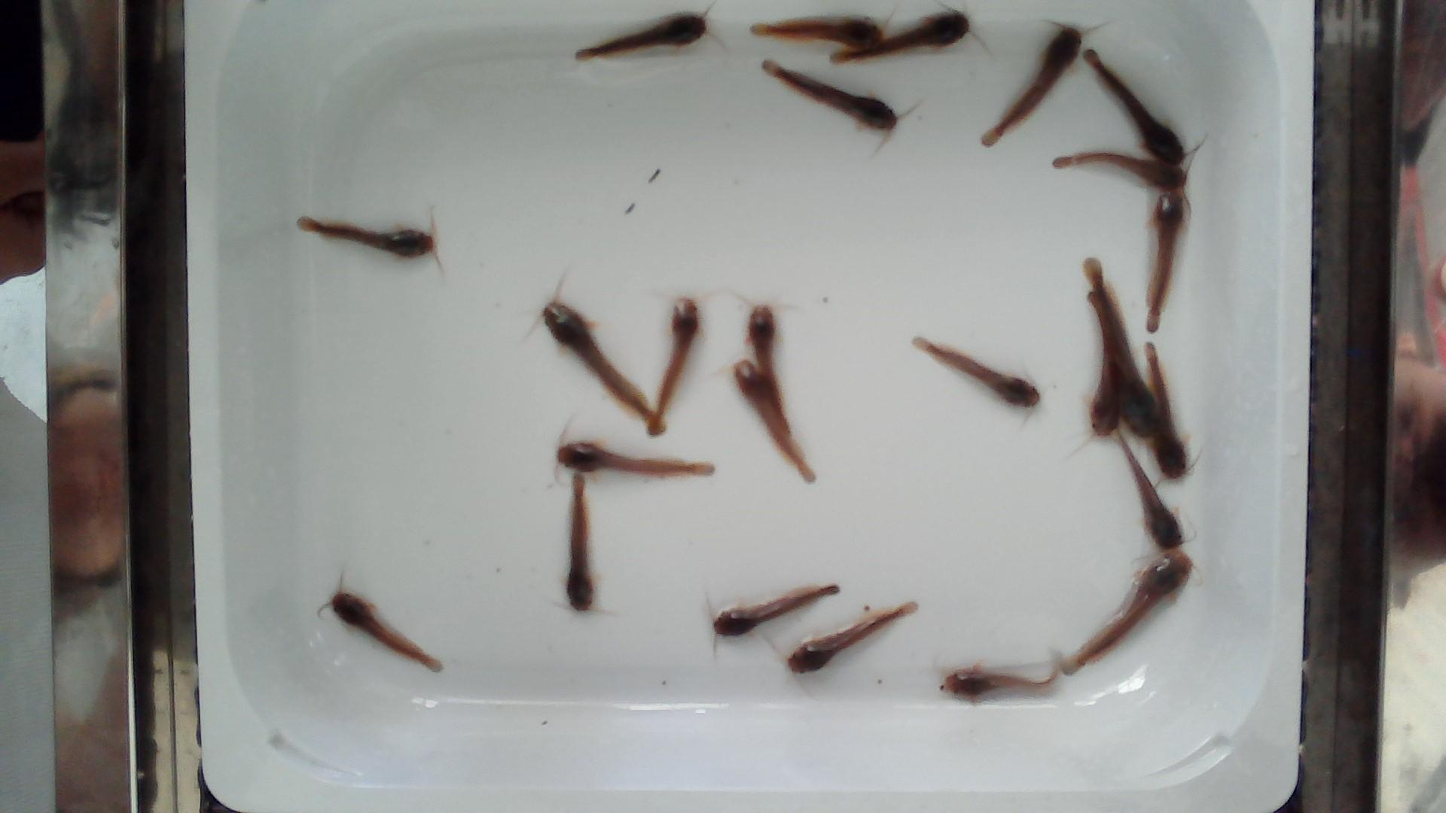lele: (1061, 547, 1191, 674), (542, 301, 664, 433), (1082, 260, 1162, 436), (981, 25, 1081, 146), (1086, 50, 1184, 164), (734, 359, 818, 483), (786, 601, 917, 673), (764, 60, 897, 130), (331, 588, 441, 671), (912, 337, 1039, 407), (1114, 434, 1183, 550), (645, 297, 700, 435), (833, 13, 969, 62), (713, 584, 839, 635), (577, 14, 706, 59), (748, 306, 791, 440), (1148, 343, 1190, 479), (297, 217, 435, 257), (557, 442, 714, 477), (1147, 192, 1186, 331), (1053, 151, 1185, 191), (566, 472, 595, 611), (941, 665, 1056, 700), (1090, 294, 1118, 436), (752, 17, 884, 47)
